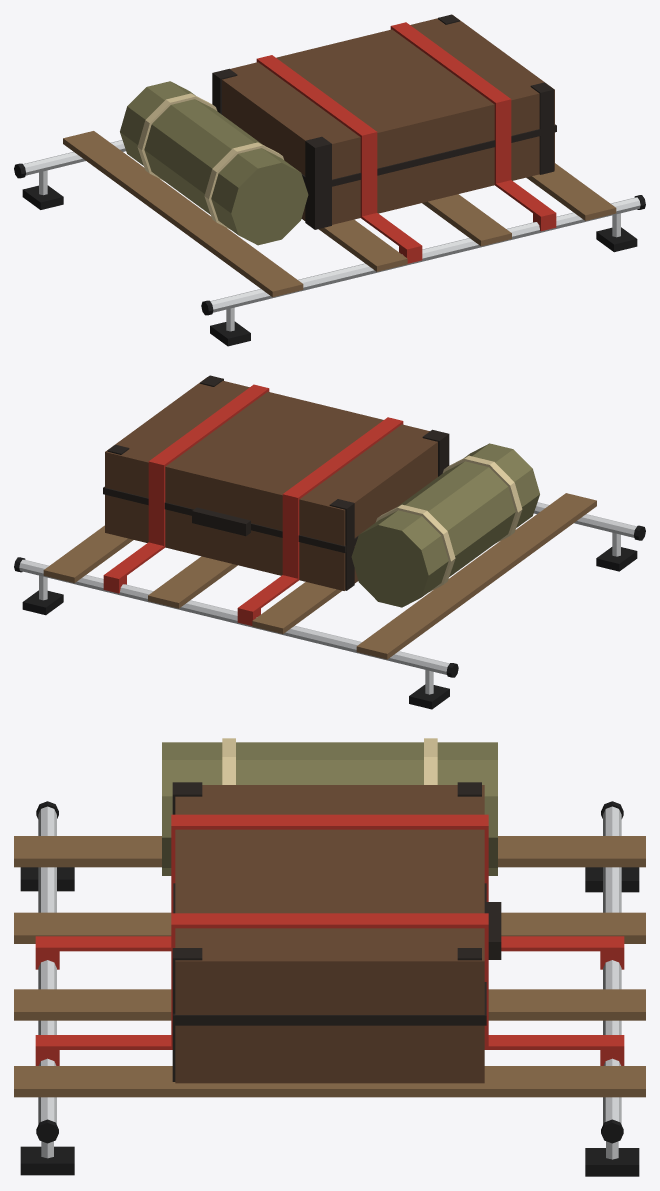
File: roofrack_luggage_modern.glb
The picture shows the model from 3 angles, top to bottom: view 1: azimuth 30°, elevation 25°; view 2: azimuth 150°, elevation 25°; view 3: azimuth 270°, elevation 25°; orthographic projection. The views are drawn at different scales.
Parts seen in each view (by area): view 1: Suitcase, Tarp, Straps, RoofRack; view 2: Suitcase, Tarp, Straps, RoofRack; view 3: Suitcase, Straps, Tarp, RoofRack.
Boxes of the visible parts, bbox=[...] form: Suitcase: bbox=[63, 14, 616, 297]; Tarp: bbox=[120, 81, 308, 245]; Straps: bbox=[256, 22, 556, 263]; RoofRack: bbox=[14, 140, 645, 346]; Suitcase: bbox=[43, 375, 596, 659]; Tarp: bbox=[351, 443, 539, 607]; Straps: bbox=[103, 384, 403, 625]; RoofRack: bbox=[14, 502, 645, 709]; Suitcase: bbox=[14, 782, 645, 1097]; Straps: bbox=[35, 814, 624, 1065]; Tarp: bbox=[162, 738, 497, 875]; RoofRack: bbox=[20, 801, 639, 1176].
Bounding box in the file's own units: 1.13 × 0.322 × 0.94.
